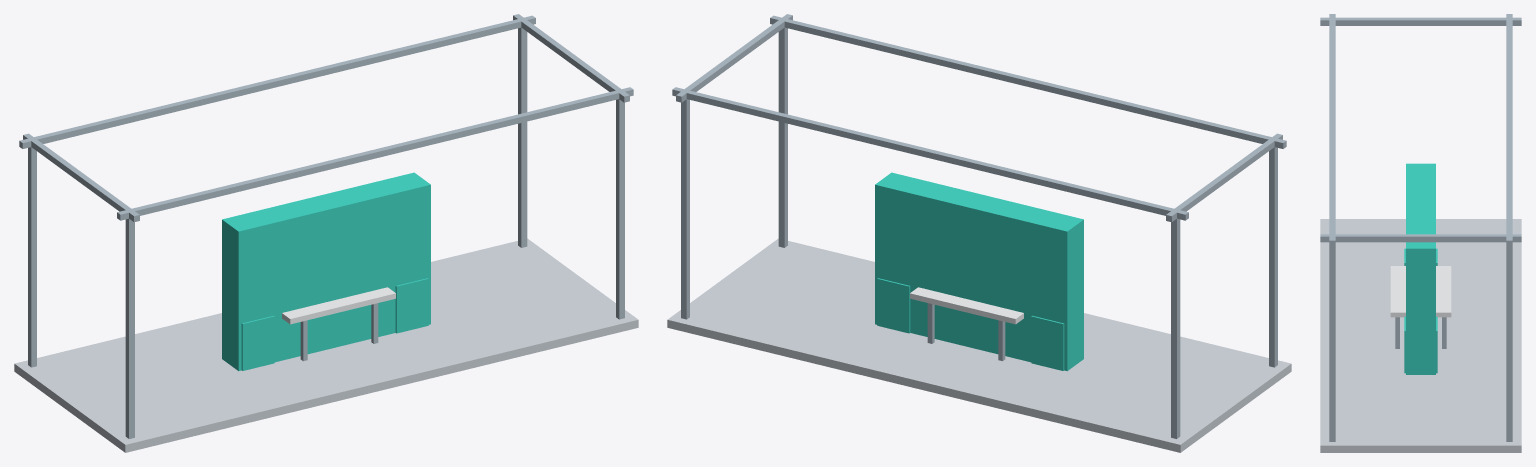
3 renders of one model, left to right at view 1: azimuth 30°, elevation 25°; view 2: azimuth 150°, elevation 25°; view 3: azimuth 270°, elevation 25°, orthographic. The views are drawn at different scales.
Visible parts, largest first — view 1: Exhibition Booth Concept; view 2: Exhibition Booth Concept; view 3: Exhibition Booth Concept.
Boxes of the visible parts, left/top/right/bottom form: Exhibition Booth Concept: left=14, top=14, right=638, bottom=452; Exhibition Booth Concept: left=667, top=14, right=1291, bottom=452; Exhibition Booth Concept: left=1320, top=14, right=1521, bottom=452.
Size of the model in its own units: 8 by 3.49 by 3.
